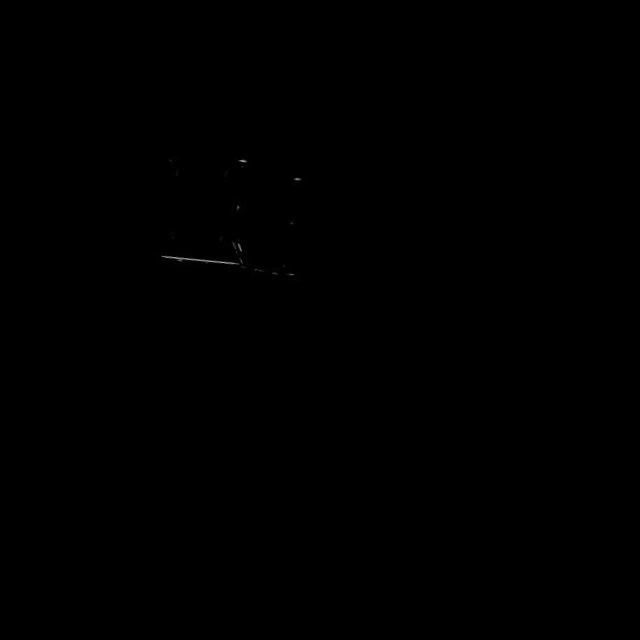medium_debris: (153, 135, 318, 297)
